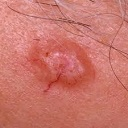Carcinoma: (30, 42, 93, 86)
